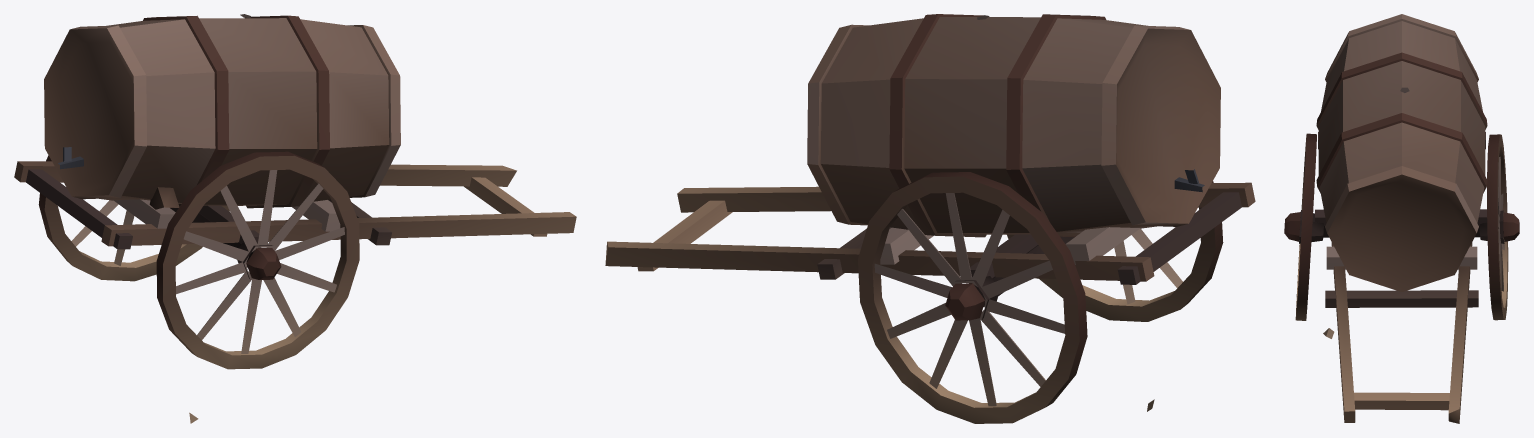
The model's file is prop_water_cart.glb.
The picture shows the model from 3 angles, left to right: view 1: azimuth 30°, elevation 25°; view 2: azimuth 150°, elevation 25°; view 3: azimuth 270°, elevation 25°; orthographic projection. The views are drawn at different scales.
Visible parts, largest first — view 1: prop_water_cart_mesh; view 2: prop_water_cart_mesh; view 3: prop_water_cart_mesh.
Boxes of the visible parts, x1=… form: prop_water_cart_mesh: x1=14, y1=14, x2=576, y2=423; prop_water_cart_mesh: x1=605, y1=14, x2=1255, y2=423; prop_water_cart_mesh: x1=1284, y1=14, x2=1519, y2=423.
Size of the model in its own units: 3.2 by 2.34 by 1.63.
